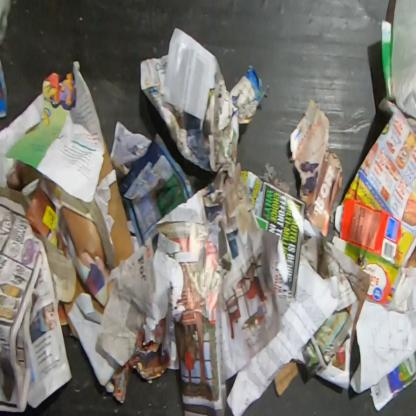cardboard: (60, 132, 136, 274), (273, 359, 299, 396), (18, 159, 44, 189)
soft_plastic: (389, 0, 415, 127)
